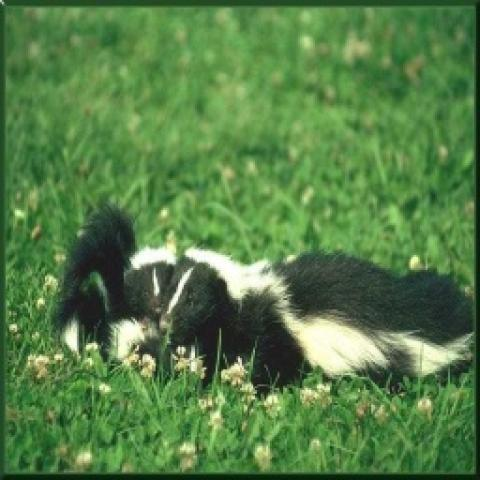small_animal: (159, 246, 472, 394), (54, 225, 183, 380)
